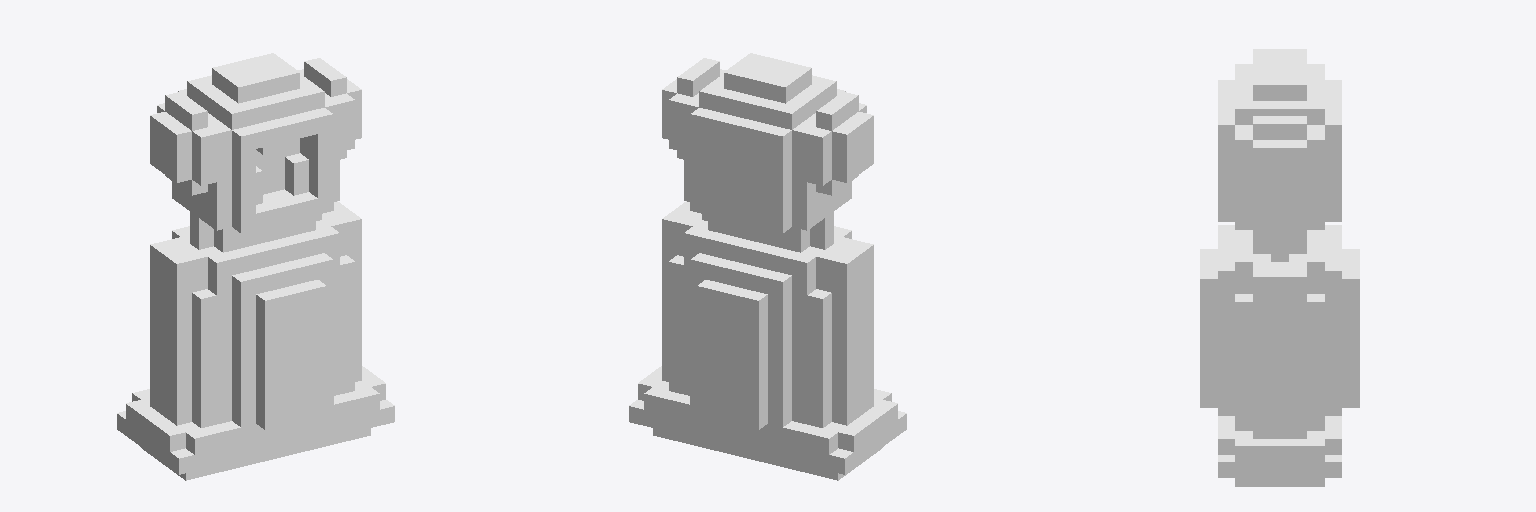
The model's file is Prototype_boss_animation-4.obj.
3 views of the same model, side by side, from view 1: azimuth 30°, elevation 25°; view 2: azimuth 150°, elevation 25°; view 3: azimuth 270°, elevation 25° (orthographic).
Visible parts, largest first — view 1: object 1; view 2: object 1; view 3: object 1.
Boxes of the visible parts, x1,y1,x2,y2 form: object 1: [117, 53, 394, 480]; object 1: [629, 53, 906, 480]; object 1: [1200, 49, 1359, 486].
Size of the model in its own units: 1.4 by 2.3 by 0.9.